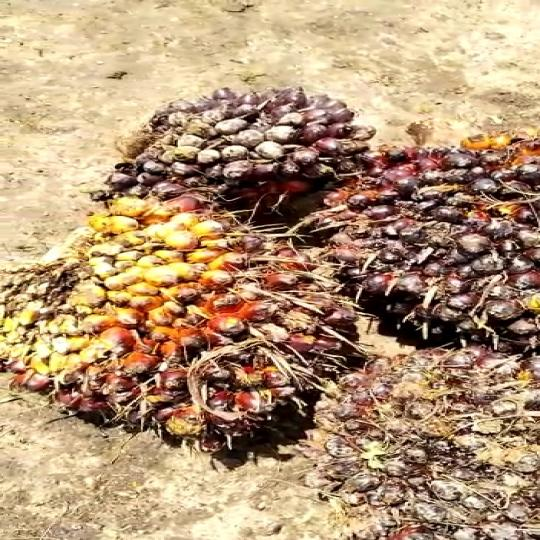kurang masak: (0, 194, 360, 458), (319, 129, 540, 370), (111, 81, 377, 200)
